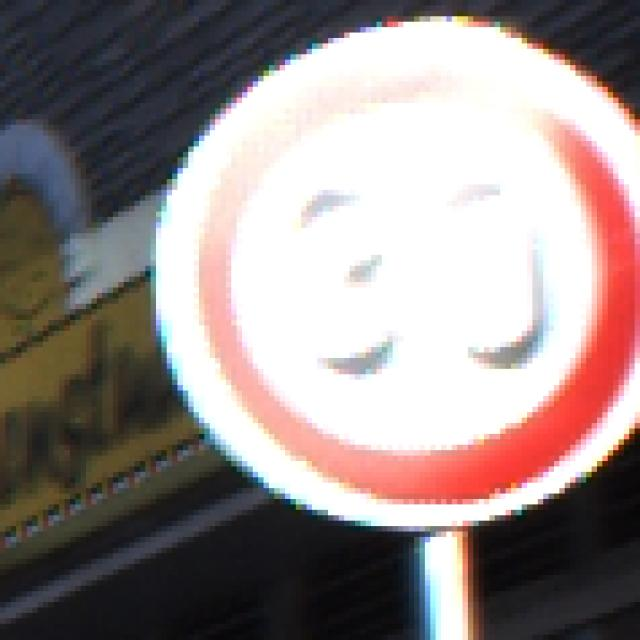Speed Limit -30-: (56, 52, 584, 583)
